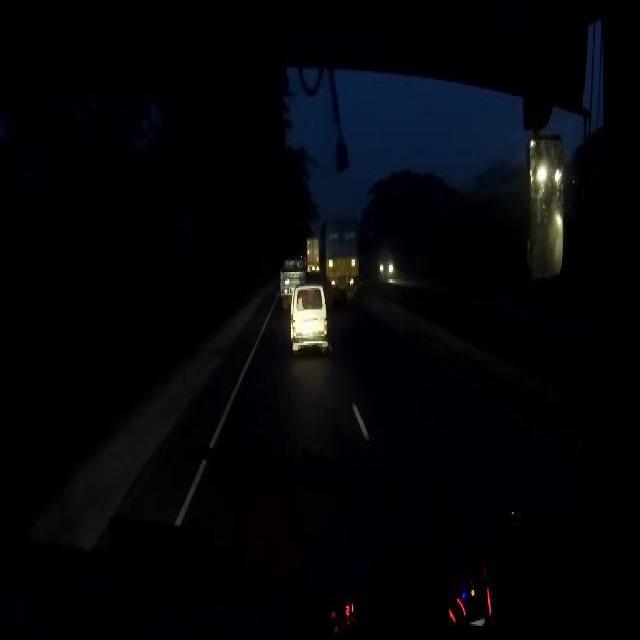vehicle: (326, 221, 363, 307), (291, 285, 328, 353), (279, 259, 293, 309)
